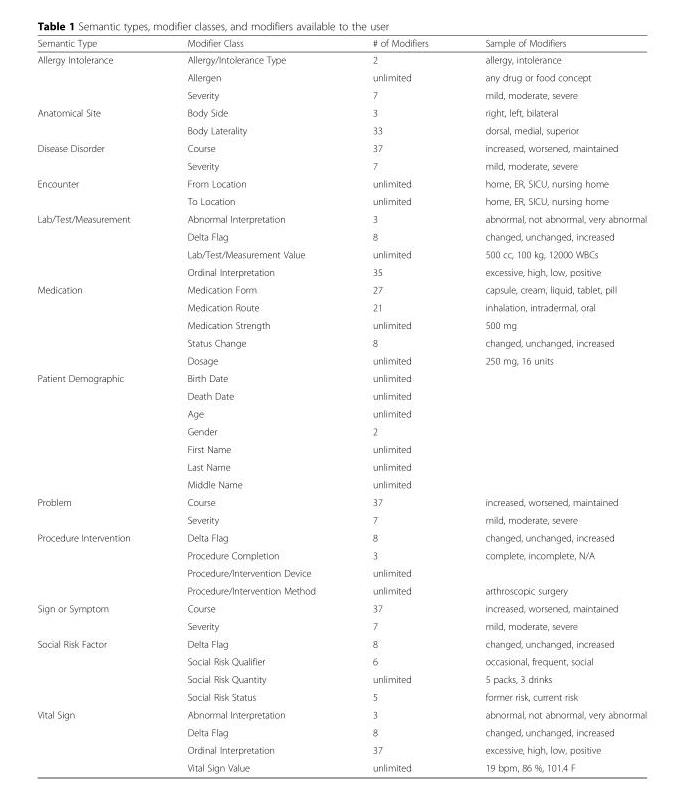table: (36, 37, 646, 773)
table column: (456, 37, 646, 773), (158, 37, 343, 773), (36, 37, 158, 773), (343, 37, 456, 773)
table column header: (36, 37, 646, 51)
table row: (36, 85, 646, 103), (36, 103, 646, 121), (36, 121, 646, 139), (36, 156, 646, 174), (36, 174, 646, 192), (36, 209, 646, 227), (36, 227, 646, 245), (36, 262, 646, 280), (36, 280, 646, 298), (36, 298, 646, 316), (36, 333, 646, 351), (36, 351, 646, 369), (36, 386, 646, 404), (36, 404, 646, 422), (36, 439, 646, 457), (36, 457, 646, 475), (36, 475, 646, 493), (36, 510, 646, 528), (36, 528, 646, 546), (36, 563, 646, 581), (36, 581, 646, 599), (36, 616, 646, 634), (36, 634, 646, 652), (36, 652, 646, 670), (36, 687, 646, 705), (36, 705, 646, 723), (36, 740, 646, 758), (36, 51, 646, 68), (36, 68, 646, 85), (36, 139, 646, 156), (36, 192, 646, 209), (36, 245, 646, 262), (36, 316, 646, 333), (36, 369, 646, 386), (36, 422, 646, 439), (36, 493, 646, 510), (36, 546, 646, 563), (36, 599, 646, 616), (36, 670, 646, 687), (36, 723, 646, 740), (36, 758, 646, 773), (36, 37, 646, 51)
table spanning cell: (36, 369, 158, 493), (36, 280, 158, 369), (36, 209, 158, 280), (36, 528, 158, 599), (36, 634, 158, 705), (36, 705, 158, 773), (36, 51, 158, 103), (36, 103, 158, 139), (36, 139, 158, 174), (36, 174, 158, 209), (36, 493, 158, 528), (36, 599, 158, 634)
